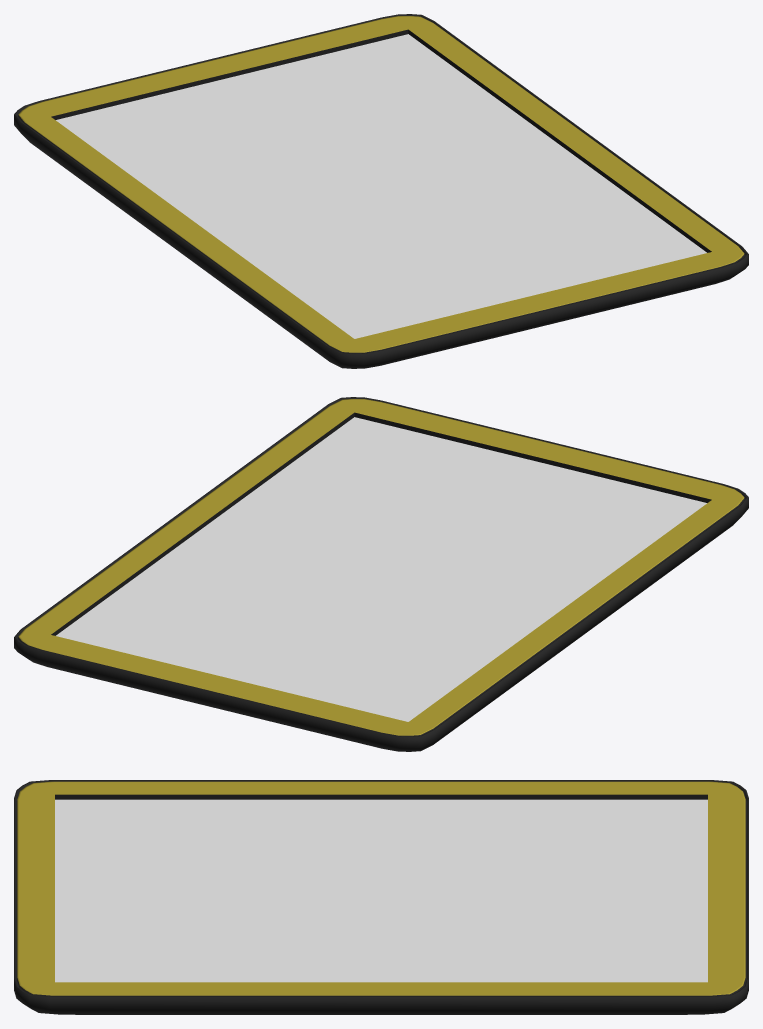
File: pad.glb
3 renders of one model, top to bottom at view 1: azimuth 30°, elevation 25°; view 2: azimuth 150°, elevation 25°; view 3: azimuth 270°, elevation 25°, orthographic. The views are drawn at different scales.
Parts seen in each view (by area): view 1: Plane; view 2: Plane; view 3: Plane.
Part boxes in pixels (box(x1,y1,x2,y2)): Plane: box(14, 14, 748, 368); Plane: box(14, 397, 748, 751); Plane: box(14, 780, 748, 1014).
Size of the model in its own units: 0.2096 by 0.0129 by 0.2997.
2 materials, 1 textured.
